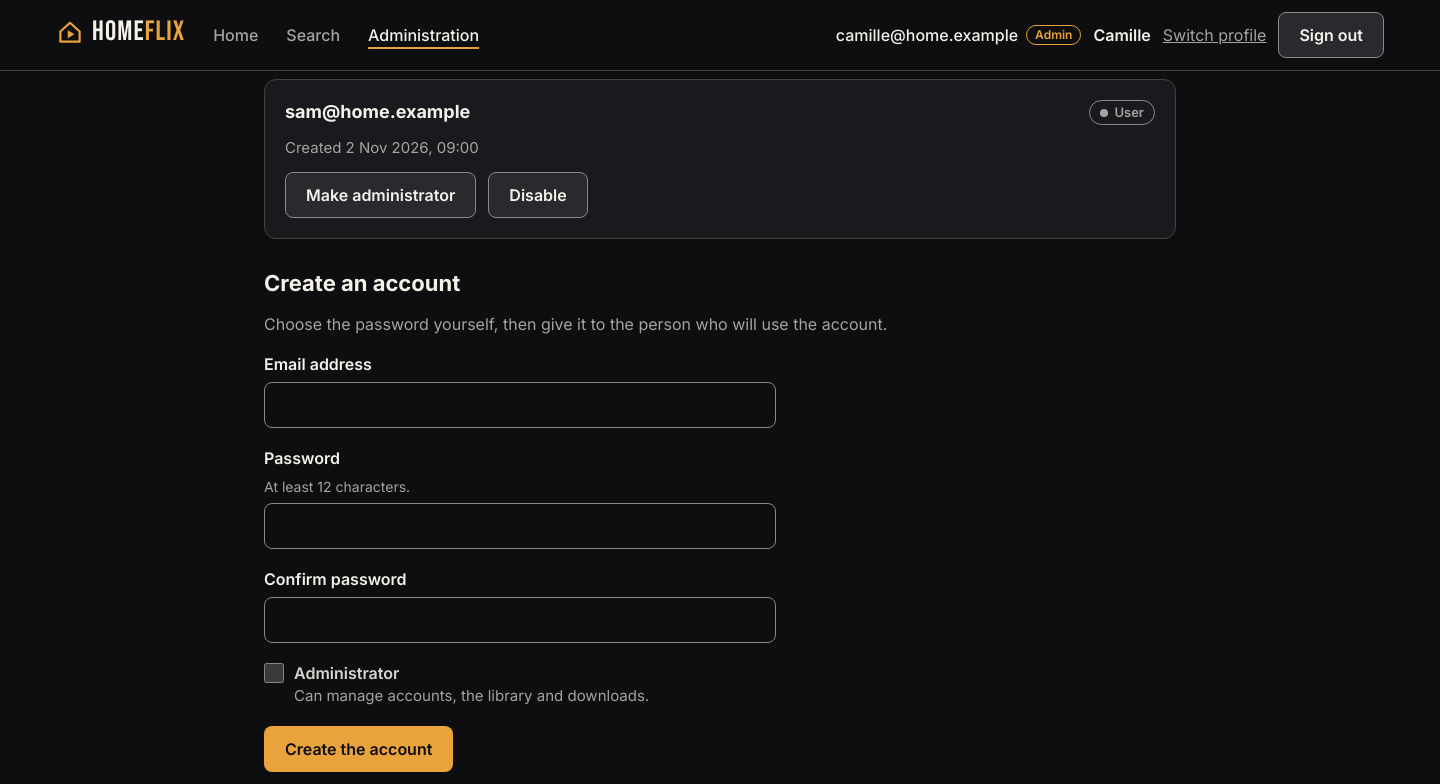
AccountsPage › checks the form before sending it
(page scrolled)
Step 1. Type "lou@home.example" into the field labelled "Email address" → (520, 405), box [264,382,776,428]
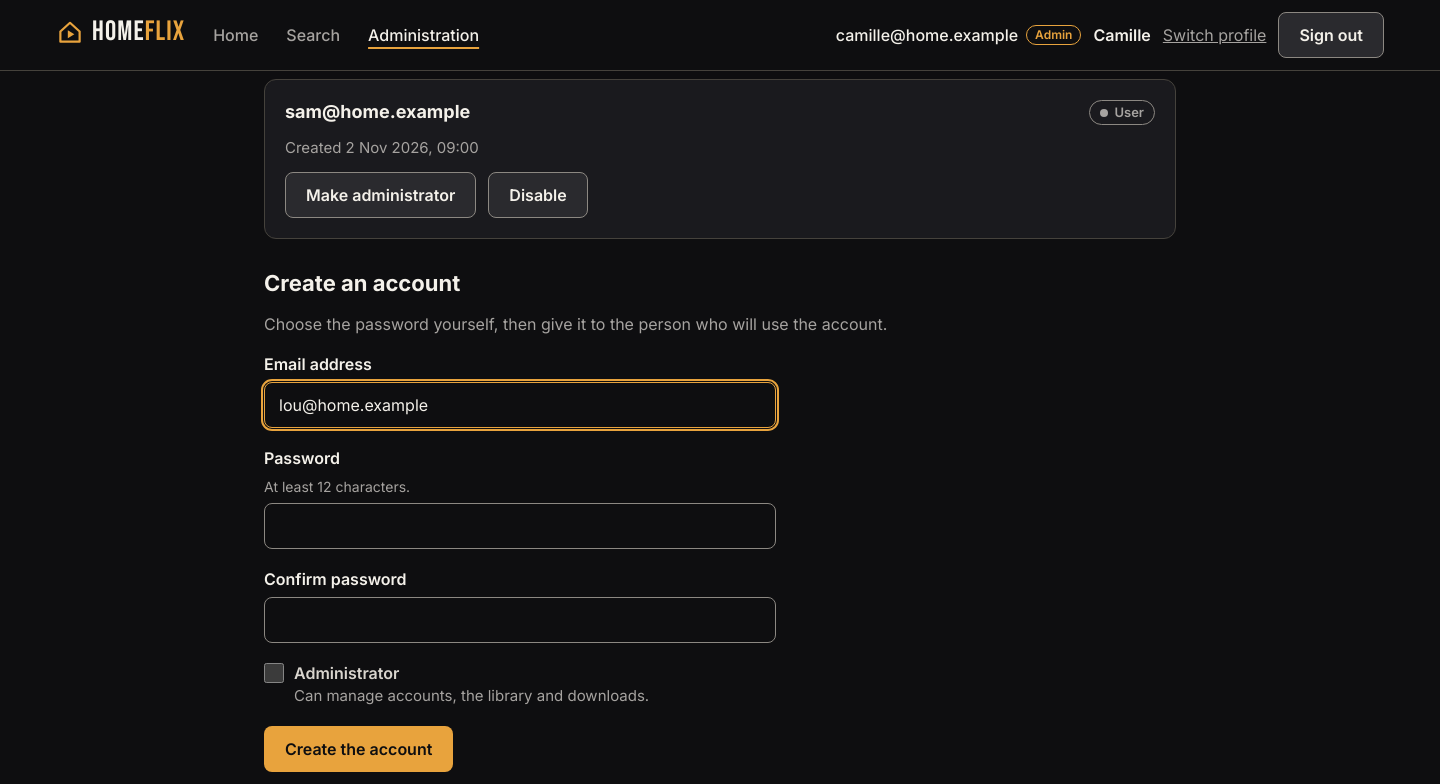
Step 2. Type "short" into the password field labelled "Password" → (520, 526), box [264,503,776,549]
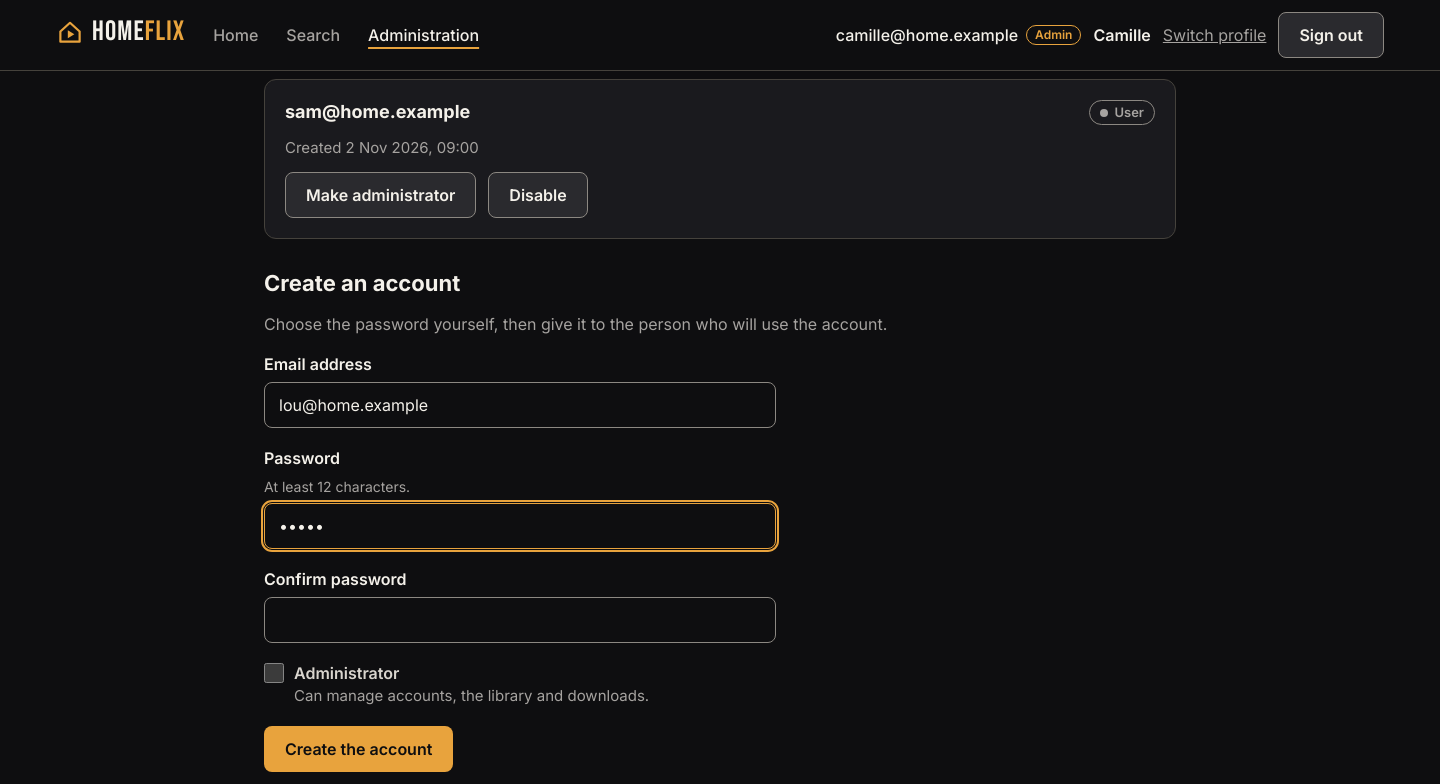
Step 3. Click the button "Create the account" → click(359, 749), box [264,726,453,772]
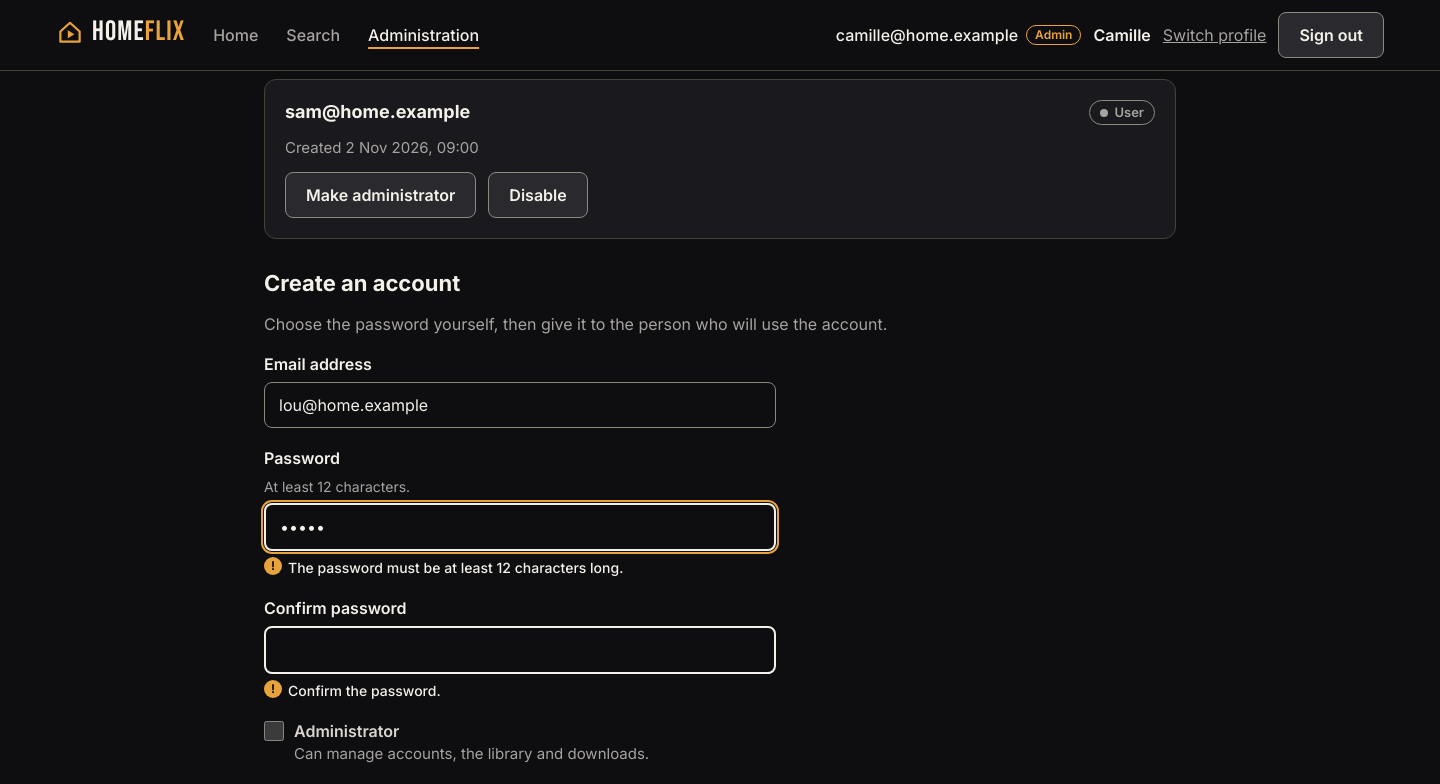
Now the text "The password must be at least 12 characters long." is shown, box [288,559,623,576]
